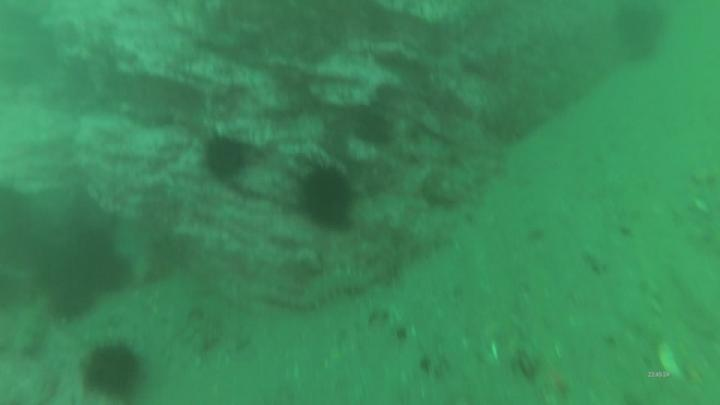echinus: (299, 165, 358, 234), (81, 339, 141, 403), (44, 275, 95, 325), (200, 132, 248, 183), (88, 252, 129, 294), (353, 112, 398, 150), (365, 3, 397, 39)
holothurian: (293, 264, 381, 313)
